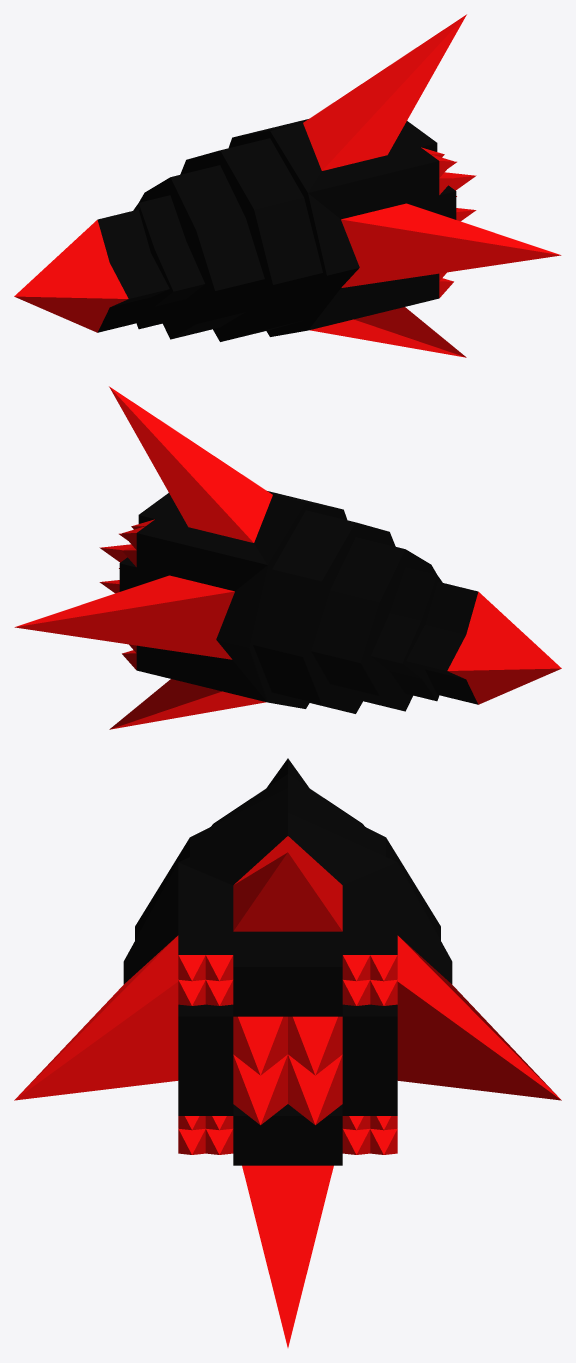
File: SpikeFish.fbx
3 views of the same model, one above another, from view 1: azimuth 30°, elevation 25°; view 2: azimuth 150°, elevation 25°; view 3: azimuth 270°, elevation 25° (orthographic). The views are drawn at different scales.
Visible parts, largest first — view 1: Creature; view 2: Creature; view 3: Creature.
Part boxes in pixels (left/top/right/bottom): Creature: left=14, top=14, right=561, bottom=357; Creature: left=14, top=386, right=561, bottom=729; Creature: left=14, top=758, right=561, bottom=1347.
Bounding box in the file's own units: 690 × 500 × 500.
1 material, 1 textured.
